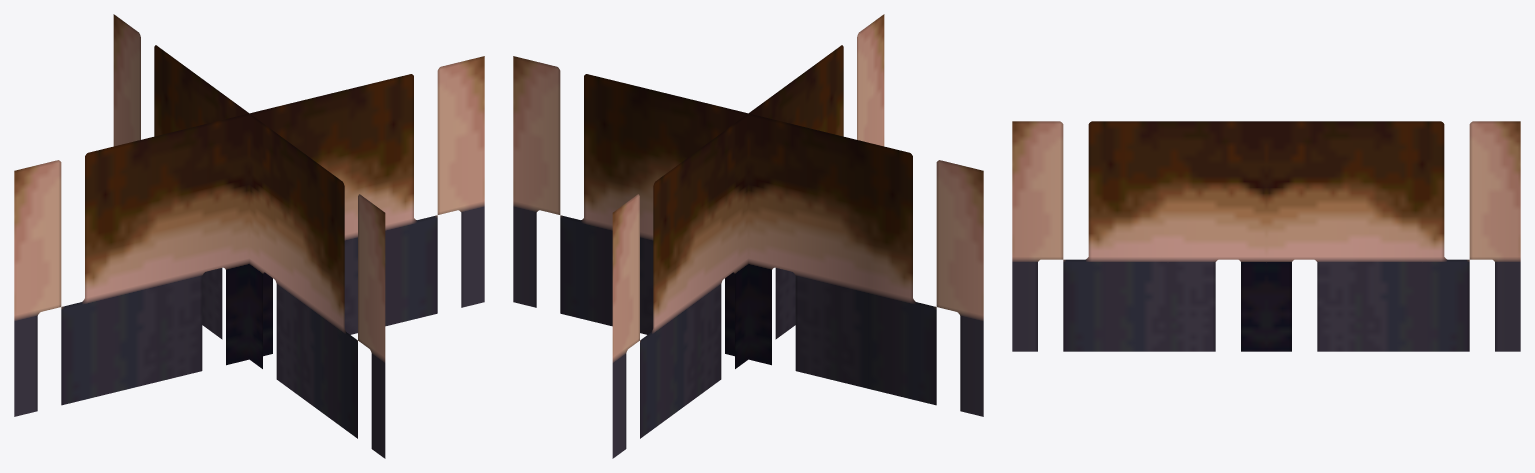
3 renders of one model, left to right at view 1: azimuth 30°, elevation 25°; view 2: azimuth 150°, elevation 25°; view 3: azimuth 270°, elevation 25°, orthographic. The views are drawn at different scales.
Parts seen in each view (by area): view 1: T1L6M005_3; view 2: T1L6M005_3; view 3: T1L6M005_3.
Part boxes in pixels (x1=…): T1L6M005_3: x1=14, y1=14, x2=484, y2=458; T1L6M005_3: x1=513, y1=14, x2=983, y2=458; T1L6M005_3: x1=1012, y1=121, x2=1520, y2=351.
Bounding box in the file's own units: 2 × 1 × 2.
